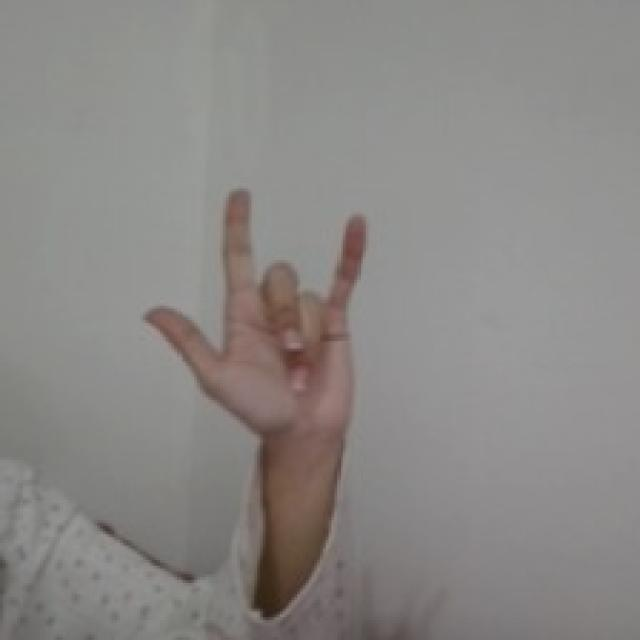love: (138, 185, 374, 449)
